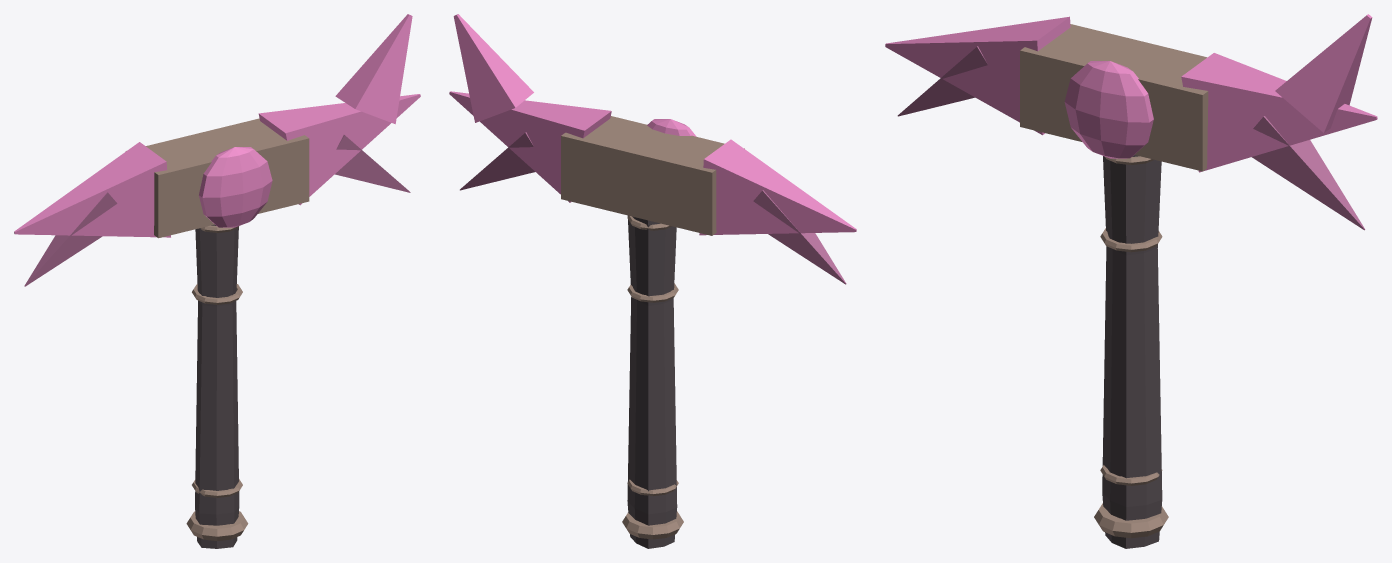
Rendered from BH_PICK_P24_Ceifadora_do_Crepusculo_V01.glb.
3 renders of one model, left to right at view 1: azimuth 30°, elevation 25°; view 2: azimuth 150°, elevation 25°; view 3: azimuth 330°, elevation 25°, orthographic. The views are drawn at different scales.
Parts seen in each view (by area): view 1: Handle | shaped shaft.001, Head | main crossbar.001, Head | mining tooth L.001, Head | mining tooth R.001, Core | socket gem.001, Head | crescent back.001, Head | hooked spur -1.001, Head | hooked spur 1.001, Handle | pommel.001; view 2: Handle | shaped shaft.001, Head | main crossbar.001, Head | mining tooth L.001, Head | mining tooth R.001, Head | crescent back.001, Head | hooked spur -1.001, Head | hooked spur 1.001, Handle | pommel.001, Core | socket gem.001; view 3: Handle | shaped shaft.001, Head | main crossbar.001, Head | mining tooth R.001, Head | mining tooth L.001, Core | socket gem.001, Head | crescent back.001, Head | hooked spur 1.001, Head | hooked spur -1.001, Handle | pommel.001, Handle | binding 3.001.
Boxes of the visible parts, left/top/right/bottom form: Handle | shaped shaft.001: left=195, top=224, right=239, bottom=548; Head | main crossbar.001: left=125, top=118, right=309, bottom=238; Head | mining tooth L.001: left=14, top=142, right=170, bottom=237; Head | mining tooth R.001: left=258, top=94, right=420, bottom=205; Core | socket gem.001: left=199, top=147, right=272, bottom=227; Head | crescent back.001: left=335, top=14, right=412, bottom=124; Head | hooked spur -1.001: left=24, top=192, right=117, bottom=286; Head | hooked spur 1.001: left=335, top=135, right=410, bottom=192; Handle | pommel.001: left=186, top=511, right=248, bottom=540; Handle | shaped shaft.001: left=627, top=215, right=677, bottom=548; Head | main crossbar.001: left=561, top=116, right=744, bottom=235; Head | mining tooth L.001: left=699, top=139, right=856, bottom=235; Head | mining tooth R.001: left=449, top=91, right=611, bottom=202; Head | crescent back.001: left=453, top=14, right=533, bottom=122; Head | hooked spur -1.001: left=753, top=190, right=846, bottom=284; Head | hooked spur 1.001: left=460, top=132, right=534, bottom=190; Handle | pommel.001: left=622, top=511, right=683, bottom=539; Core | socket gem.001: left=647, top=119, right=696, bottom=136; Handle | shaped shaft.001: left=1102, top=155, right=1162, bottom=548; Head | main crossbar.001: left=1020, top=24, right=1208, bottom=171; Head | mining tooth R.001: left=1181, top=53, right=1377, bottom=172; Head | mining tooth L.001: left=885, top=16, right=1070, bottom=135; Core | socket gem.001: left=1064, top=61, right=1153, bottom=158; Head | crescent back.001: left=1275, top=14, right=1372, bottom=132; Head | hooked spur 1.001: left=1252, top=116, right=1365, bottom=230; Head | hooked spur -1.001: left=897, top=46, right=987, bottom=116; Handle | pommel.001: left=1094, top=503, right=1168, bottom=538; Handle | binding 3.001: left=1100, top=228, right=1162, bottom=252.
Size of the model in its own units: 2.42 by 2.73 by 0.44.
